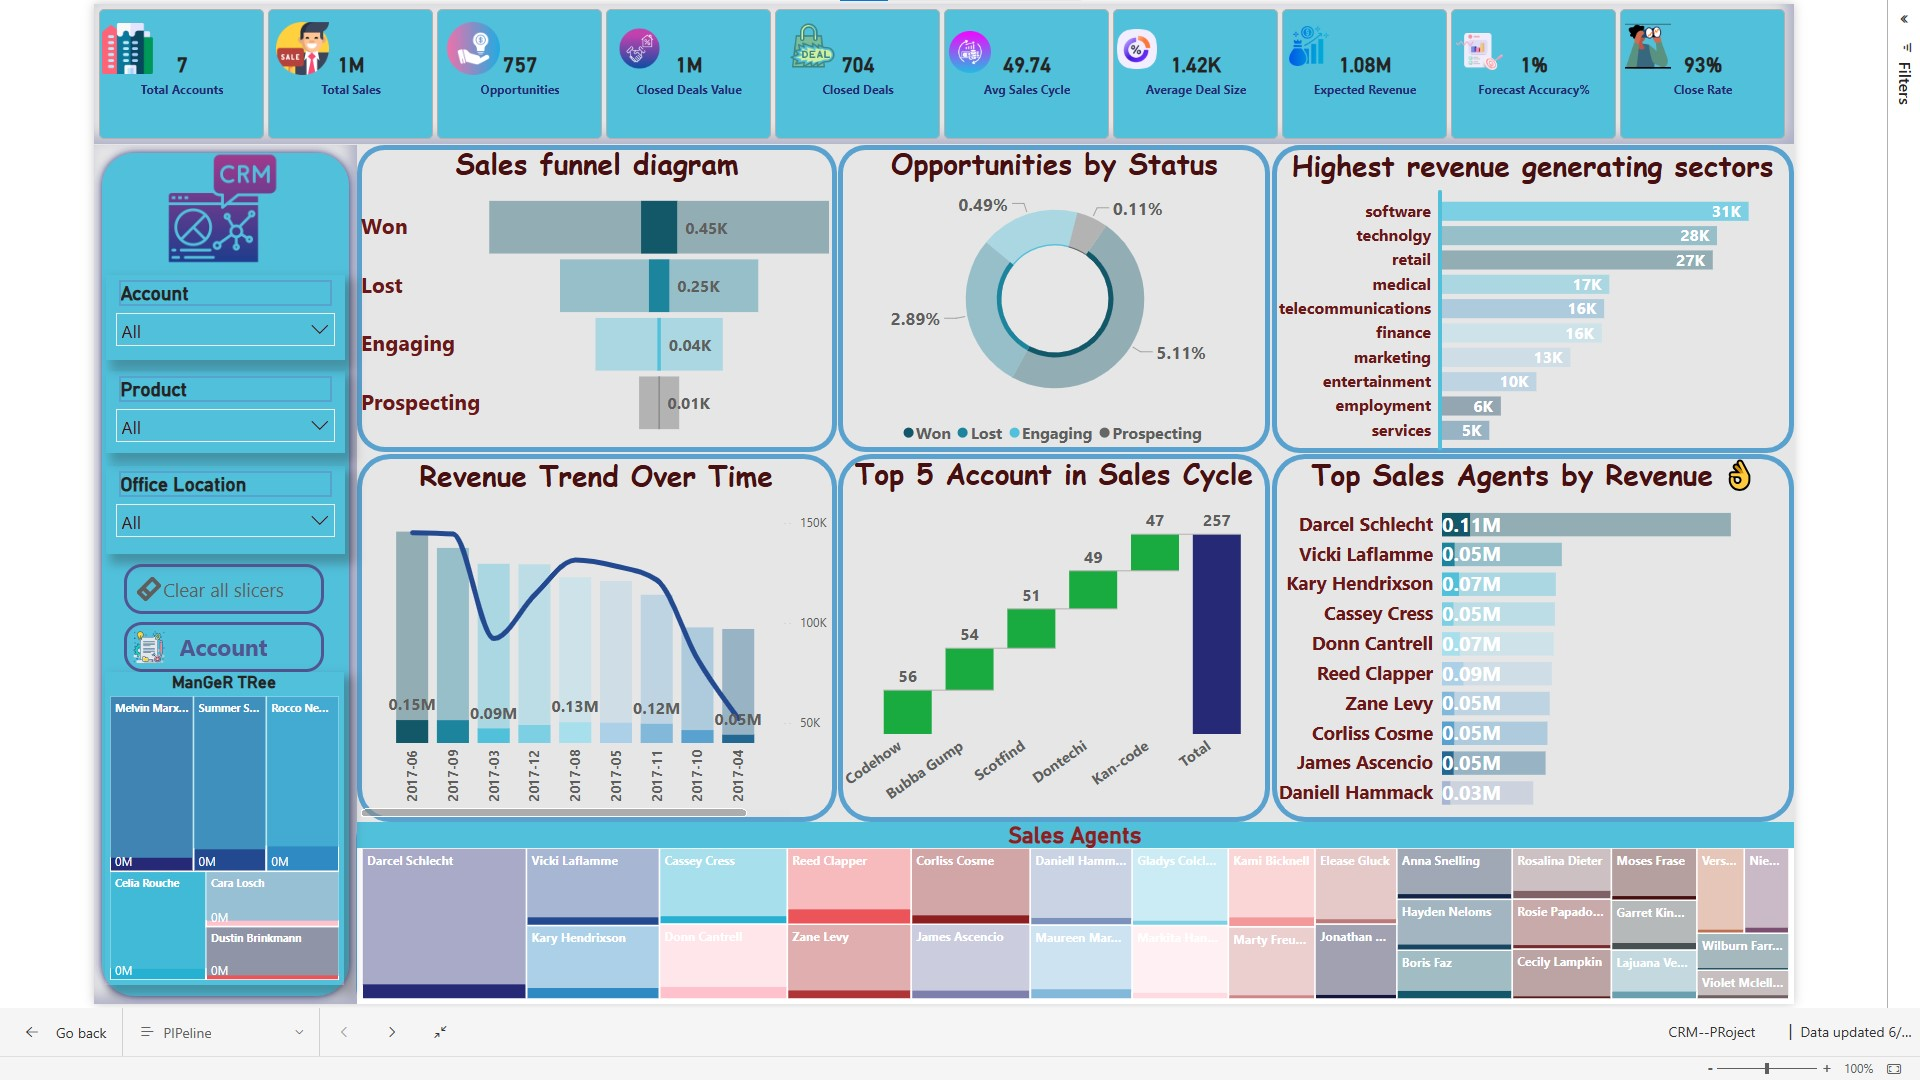

Layout of this report page (visuals, bound fields, positions):
{"tool":"powerbi","page":{"name":"PIPeline","canvas":[1700,1000],"ordinal":0},"visuals":[{"type":"shape","box":[0,141.5,263.4,858.5],"z":0},{"type":"shape","box":[744.3,140.9,431.6,306.8],"z":1000},{"type":"shape","box":[263.4,450,479.3,368.3],"z":2000},{"type":"shape","box":[262.8,140.9,480.1,306.8],"z":3000},{"type":"shape","box":[743.9,450,432,368.3],"z":4000},{"type":"shape","box":[1178,141.5,522,307.3],"z":5000},{"type":"shape","box":[1178,450,522,368.3],"z":6000},{"type":"shape","box":[264.2,819.2,1435.8,181.2],"z":7000},{"type":"cardVisual","fields":{"Data":["Calendar.Total Accounts","Calendar.Total Sales","Calendar.Total Opportunities","Calendar.Closed Deals Value","Calendar.Closed Deals","Calendar.Avg Sales Cycle","Calendar.Average Deal Size","Calendar.Expected Revenue","Calendar.Forecast Accuracy %","Calendar.Close Rate"]},"box":[0,0,1700,140.2],"z":8000},{"type":"funnel","title":"Sales funnel diagram","fields":{"Category":["sales_pipeline.Deal Stage"],"Y":["CountNonNull(sales_pipeline.Opportunity Id)"]},"box":[262.3,138.9,482.4,309.1],"z":9000},{"type":"barChart","title":"Highest revenue generating sectors","fields":{"Y":["Subsidiary Of.Total Revenue by Sector"],"Category":["Subsidiary Of.Sector"]},"box":[1178,141.5,522,309.8],"z":10000},{"type":"donutChart","title":"Opportunities by Status","fields":{"Category":["sales_pipeline.Deal Stage"],"Y":["CountNonNull(sales_pipeline.Opportunity Id)"]},"box":[743.9,139,434.1,309.8],"z":11000},{"type":"clusteredBarChart","title":"Top Sales Agents by Revenue 👌 ","fields":{"Category":["sales_pipeline.Sales Agent"],"Y":["Sum(sales_pipeline.Close Value)"]},"box":[1178,450,522,368.3],"z":12000},{"type":"lineStackedColumnComboChart","title":"Revenue Trend Over Time","fields":{"Category":["sales_pipeline.Close-Month"],"Y":["Calendar.Closed Deals Value"],"Y2":["Calendar.Total Sales"]},"box":[262.3,451.1,480.8,366.9],"z":13000},{"type":"waterfallChart","title":"Top 5 Account in Sales Cycle","fields":{"Category":["sales_pipeline.Account"],"Y":["Calendar.Avg Sales Cycle"]},"box":[742.7,448.8,435.4,369.5],"z":14000},{"type":"shape","box":[262.3,818,1437.7,182.6],"z":15000},{"type":"treemap","title":"Sales Agents","fields":{"Group":["sales_pipeline.Sales Agent"],"Values":["Sum(sales_pipeline.Close Value)"]},"box":[262.8,817.7,1437.2,182],"z":16000},{"type":"slicer","fields":{"Values":["sales_pipeline.Account"]},"box":[12.2,271.1,239.3,85.1],"z":17000},{"type":"slicer","fields":{"Values":["sales_pipeline.Product"]},"box":[12.2,366.6,239.3,82.2],"z":18000},{"type":"slicer","fields":{"Values":["Subsidiary Of.Office Location"]},"box":[12.2,462,239.3,88.1],"z":19000},{"type":"actionButton","box":[30.5,559.5,200,50],"z":21000},{"type":"actionButton","box":[30.5,618.1,200,50],"z":22000},{"type":"treemap","title":"ManGeR TRee","fields":{"Group":["sales_teams.Manager"],"Values":["Sum(sales_pipeline.Close Value)"]},"box":[10.7,668,239.6,313.2],"z":23000},{"type":"image","box":[10.4,138,240.3,130.5],"z":23001},{"type":"image","box":[3,3,60.8,81.6],"z":23002},{"type":"image","box":[172.1,13.4,72.7,62.3],"z":23003},{"type":"image","box":[344.2,13.4,71.2,62.3],"z":23004},{"type":"image","box":[510.3,19.3,71.2,50.4],"z":23005},{"type":"image","box":[676.4,13.4,86,56.4],"z":23006},{"type":"image","box":[850,19.3,51.9,56.4],"z":23007},{"type":"image","box":[1017.6,13.4,50.4,62.3],"z":23008},{"type":"image","box":[1189.7,13.4,50.4,56.4],"z":23009},{"type":"image","box":[1357.3,19.3,56.4,56.4],"z":23010},{"type":"image","box":[1525.8,12.8,56.4,57.6],"z":23011}]}

Visuals, with their boxes on the page's 1700x1000 design canvas (x1, y1, x2, y2). These are canvas units, not pixel positions in the 1920x1080 screenshot, which may show the page scaled, cropped or inside an application window:
shape: (0, 142, 263, 1000)
shape: (744, 141, 1176, 448)
shape: (263, 450, 743, 818)
shape: (263, 141, 743, 448)
shape: (744, 450, 1176, 818)
shape: (1178, 142, 1700, 449)
shape: (1178, 450, 1700, 818)
shape: (264, 819, 1700, 1000)
cardVisual - Calendar.Total Accounts x Calendar.Total Sales: (0, 0, 1700, 140)
"Sales funnel diagram" funnel: (262, 139, 745, 448)
"Highest revenue generating sectors" barChart: (1178, 142, 1700, 451)
"Opportunities by Status" donutChart: (744, 139, 1178, 449)
"Top Sales Agents by Revenue 👌 " clusteredBarChart: (1178, 450, 1700, 818)
"Revenue Trend Over Time" lineStackedColumnComboChart: (262, 451, 743, 818)
"Top 5 Account in Sales Cycle" waterfallChart: (743, 449, 1178, 818)
shape: (262, 818, 1700, 1001)
"Sales Agents" treemap: (263, 818, 1700, 1000)
slicer - sales_pipeline.Account: (12, 271, 252, 356)
slicer - sales_pipeline.Product: (12, 367, 252, 449)
slicer - Subsidiary Of.Office Location: (12, 462, 252, 550)
actionButton: (30, 560, 230, 610)
actionButton: (30, 618, 230, 668)
"ManGeR TRee" treemap: (11, 668, 250, 981)
image: (10, 138, 251, 268)
image: (3, 3, 64, 85)
image: (172, 13, 245, 76)
image: (344, 13, 415, 76)
image: (510, 19, 582, 70)
image: (676, 13, 762, 70)
image: (850, 19, 902, 76)
image: (1018, 13, 1068, 76)
image: (1190, 13, 1240, 70)
image: (1357, 19, 1414, 76)
image: (1526, 13, 1582, 70)
